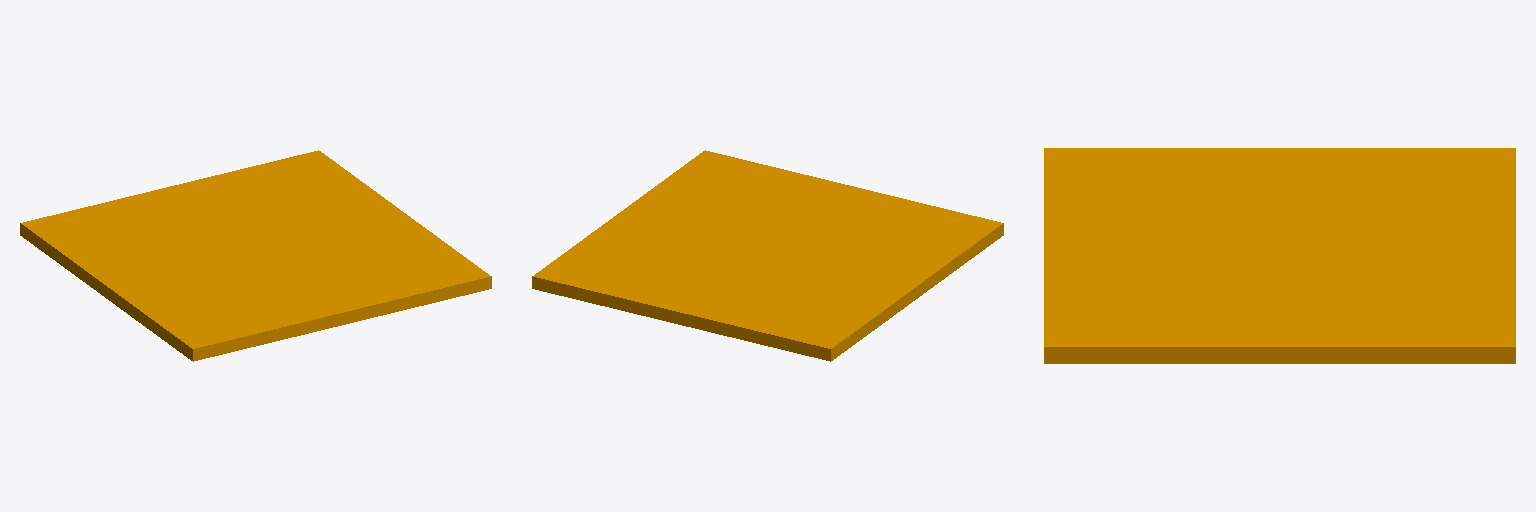
robot.urdf — simple_box:
<?xml version="1.0"?>
<robot name="simple_box" xmlns:xacro="http://ros.org/wiki/xacro">
  
  <link name="my_box">
    <inertial>
      <origin xyz="0 0 0" />
      <mass value="500.0" />
      <inertia  ixx="1.66" ixy="0.0"  ixz="0.0"  iyy="1.66"  iyz="0.0"  izz="1.66" />
    </inertial>

    <visual>
      <origin xyz="0 0 0"/>
      <geometry>
        <box size="5 5 0.2" />
      </geometry>
    </visual>

    <collision>
      <origin xyz="0 0 0"/>
      <geometry>
        <box size="5 5 0.2" />
      </geometry>
    </collision>
  </link>
  <gazebo reference="my_box">
   <material>Gazebo/Yellow</material>
    <mu1>1000</mu1>
    <mu2>1000</mu2>
    <fdir1>1 0 0</fdir1>
  </gazebo>
</robot>

--- What the picture shows (computed from the rendered views, not written in the file) ---
Views: 3 orthographic renders of the robot side by side, from view 1: azimuth 30°, elevation 25°; view 2: azimuth 150°, elevation 25°; view 3: azimuth 270°, elevation 25°.
Robot: simple_box — 1 links, 0 joints (none); root link my_box; default pose: every joint at zero.
Visible links, largest first — view 1: my_box; view 2: my_box; view 3: my_box.
Link boxes in pixels (x1,y1,x2,y2): my_box: (20, 150, 491, 361); my_box: (532, 150, 1003, 361); my_box: (1044, 148, 1515, 363).
Size in the robot's own frame: 5 by 5 by 0.2 metres.
Geometry: primitives only (box / cylinder / sphere), no mesh files.